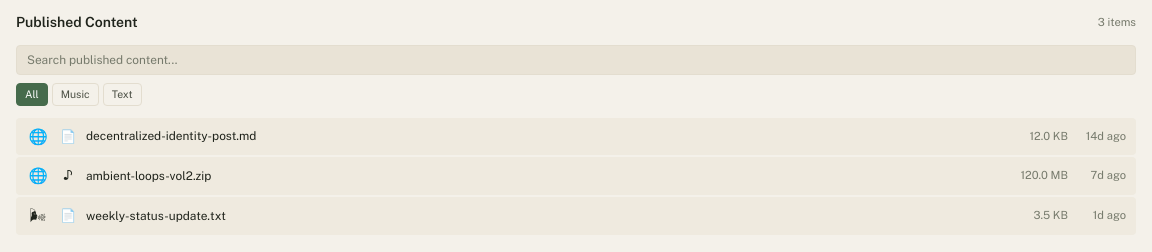
PublishedView › filters by category when a filter button is clicked
Click the button "Music" at [75, 95], box top-left (52, 83), bottom-right (99, 106)
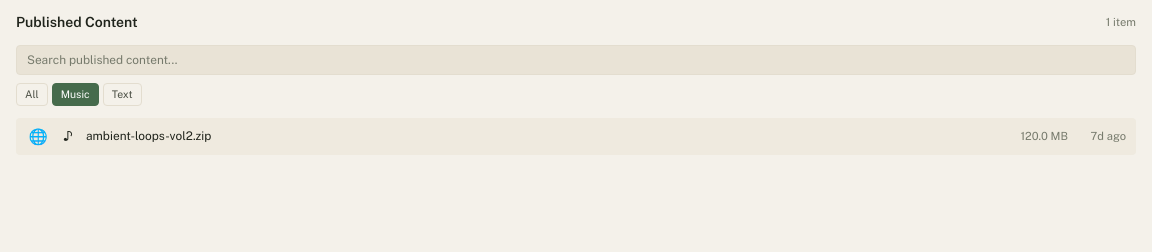
Expected: the text "ambient-loops-vol2.zip" is shown, top-left (86, 129), bottom-right (211, 143)
Now the text "decentralized-identity-post.md" is gone
Now the text "weekly-status-update.txt" is gone
